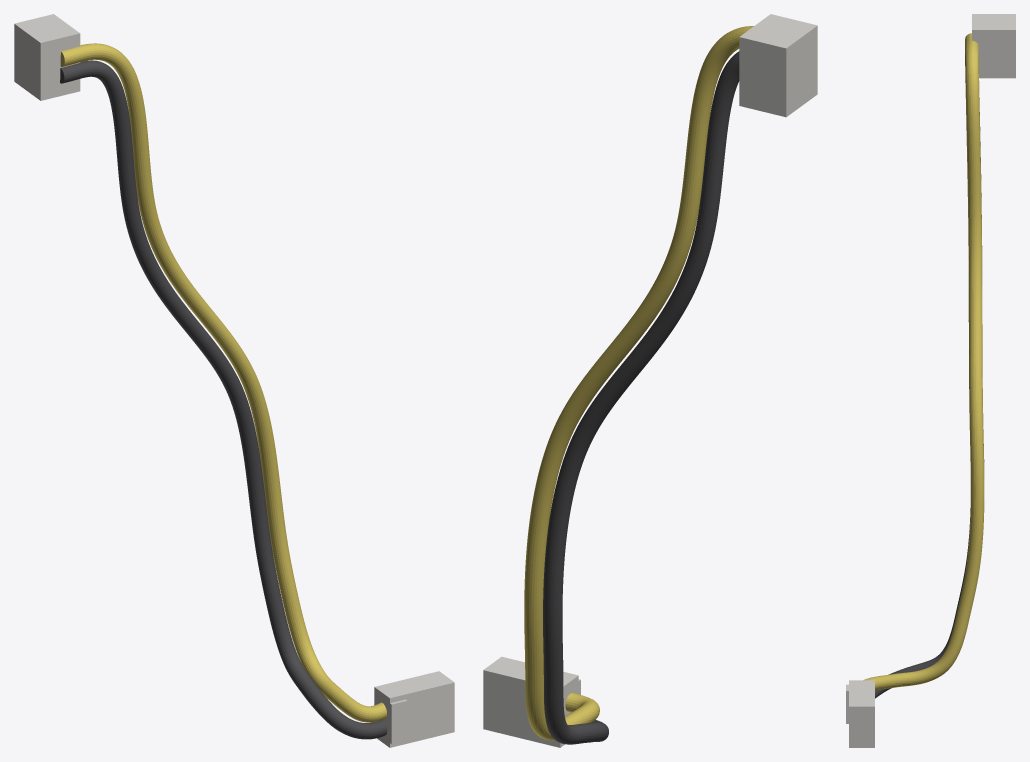
Rendered from ntc-harness.glb.
3 views of the same model, side by side, from view 1: azimuth 30°, elevation 25°; view 2: azimuth 150°, elevation 25°; view 3: azimuth 270°, elevation 25° (orthographic). The views are drawn at different scales.
Parts seen in each view (by area): view 1: GLTF; view 2: GLTF; view 3: GLTF.
Boxes of the visible parts, box(x1,y1,x2,y2) form: GLTF: box(14, 14, 454, 747); GLTF: box(483, 14, 817, 747); GLTF: box(846, 14, 1015, 747).
Size of the model in its own units: 21.49 by 43.35 by 11.2.
